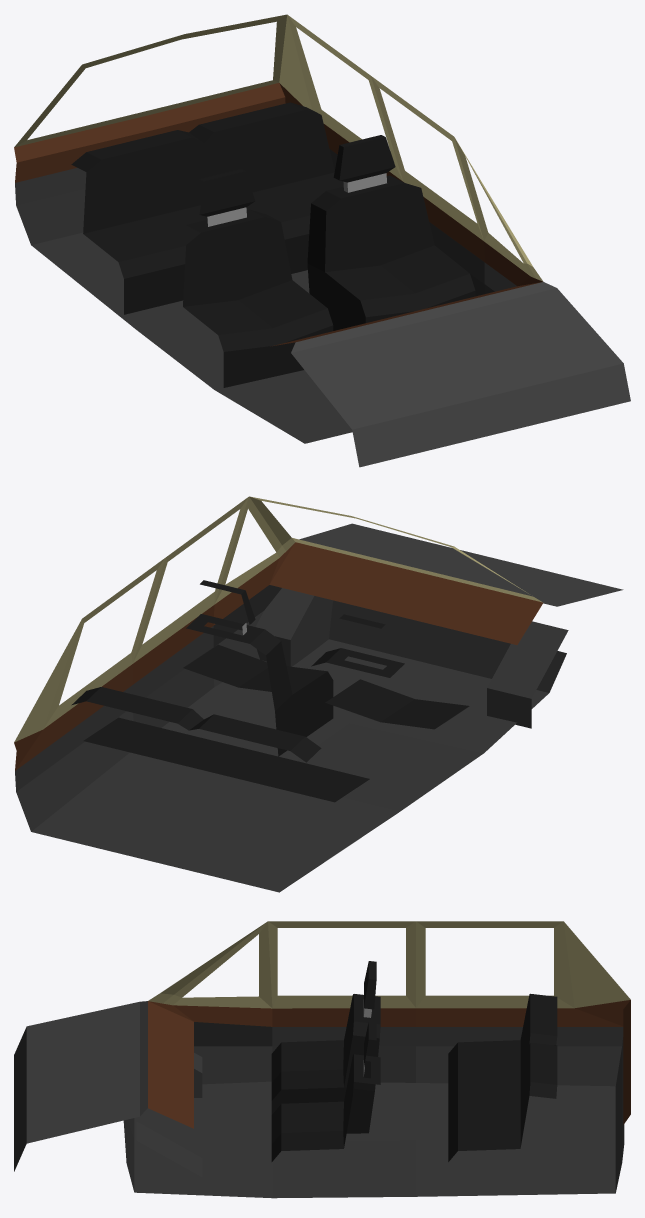
File: car_inside.glb
3 renders of one model, top to bottom at view 1: azimuth 30°, elevation 25°; view 2: azimuth 150°, elevation 25°; view 3: azimuth 270°, elevation 25°, orthographic. The views are drawn at different scales.
Parts seen in each view (by area): view 1: car_inside; view 2: car_inside; view 3: car_inside.
Part boxes in pixels (x1,y1,x2,y2): car_inside: (14,14,630,467); car_inside: (14,496,623,892); car_inside: (14,921,630,1198).
Size of the model in its own units: 1.89 by 1.32 by 4.
